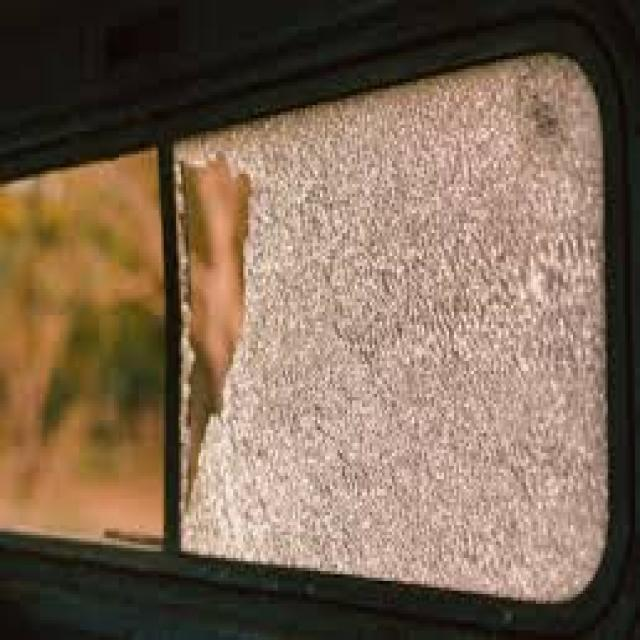damaged-window: (169, 50, 625, 609)
